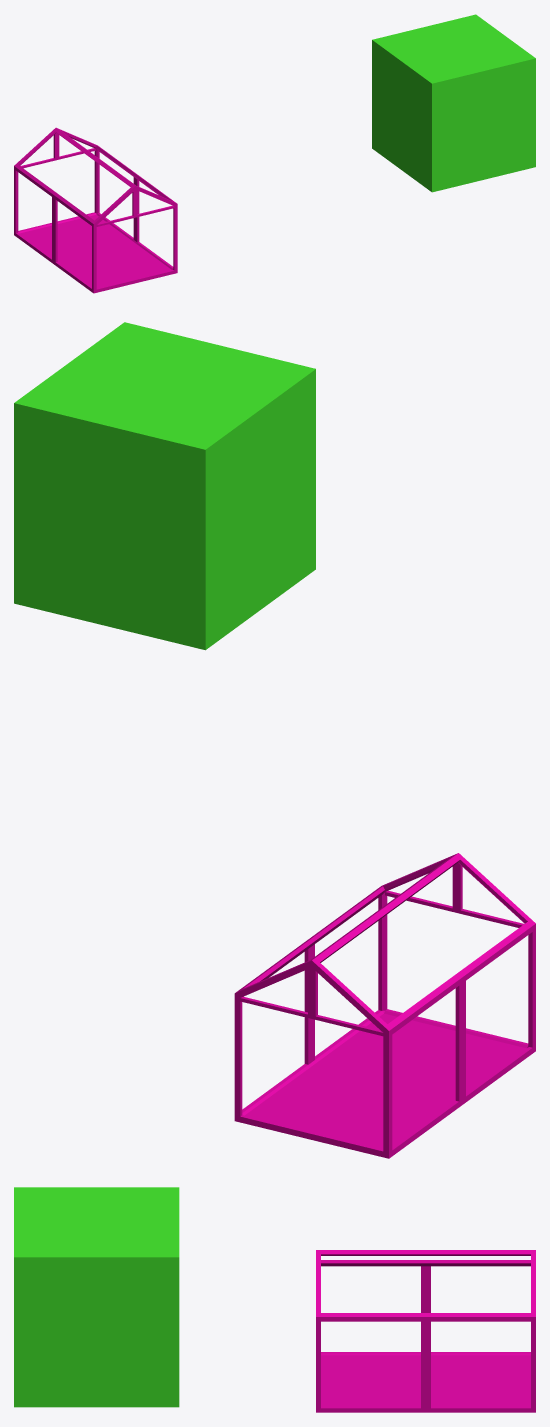
File: SPITI_VERGINA.glb
3 views of the same model, one above another, from view 1: azimuth 30°, elevation 25°; view 2: azimuth 150°, elevation 25°; view 3: azimuth 270°, elevation 25° (orthographic). The views are drawn at different scales.
Visible parts, largest first — view 1: Cube.001, GREENHOUSE_01; view 2: Cube.001, GREENHOUSE_01; view 3: Cube.001, GREENHOUSE_01.
Part boxes in pixels (x1,y1,x2,y2): Cube.001: [372, 14, 535, 192]; GREENHOUSE_01: [14, 127, 177, 293]; Cube.001: [14, 322, 315, 650]; GREENHOUSE_01: [234, 853, 535, 1158]; Cube.001: [14, 1187, 179, 1407]; GREENHOUSE_01: [316, 1250, 535, 1412].
Size of what is drawn, in the model's own units: 4.35 by 2.92 by 4.28.
